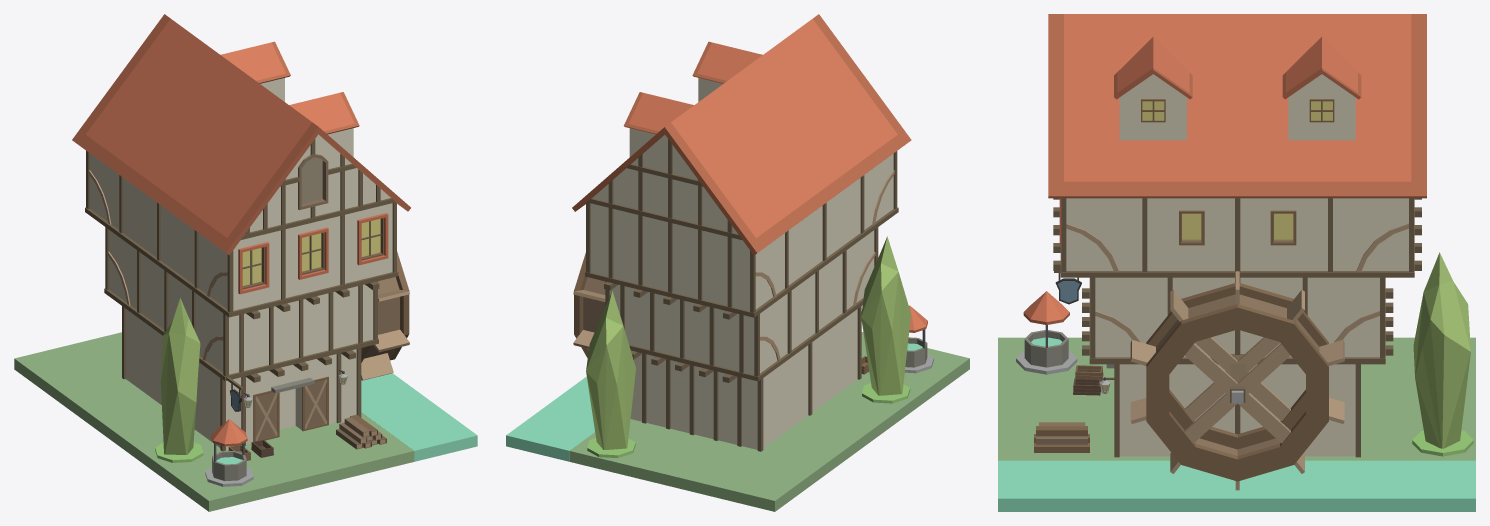
File: House_7.fbx
3 renders of one model, left to right at view 1: azimuth 30°, elevation 25°; view 2: azimuth 150°, elevation 25°; view 3: azimuth 270°, elevation 25°, orthographic. The views are drawn at different scales.
Parts seen in each view (by area): view 1: House_7; view 2: House_7; view 3: House_7.
Boxes of the visible parts, left/top/right/bottom form: House_7: left=14, top=14, right=477, bottom=511; House_7: left=506, top=14, right=969, bottom=511; House_7: left=998, top=14, right=1475, bottom=511.
Bounding box in the file's own units: 159 × 191 × 200.
1 material, 1 textured.
